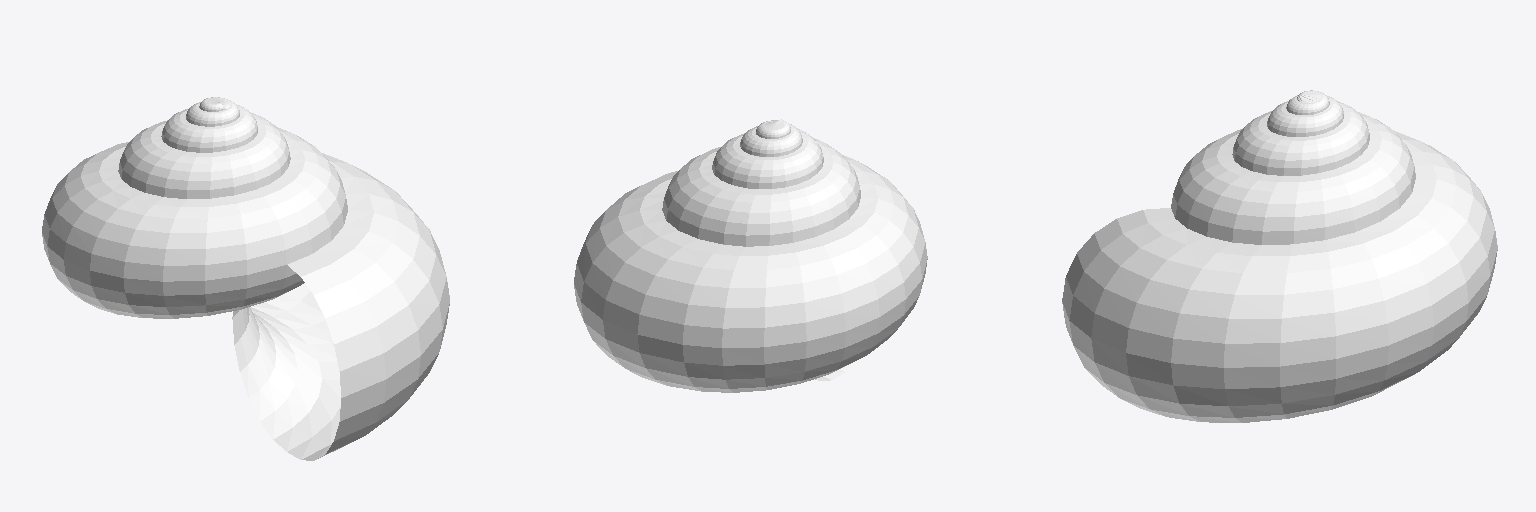
The model's file is shell_snail.obj.
The picture shows the model from 3 angles: view 1: azimuth 30°, elevation 25°; view 2: azimuth 150°, elevation 25°; view 3: azimuth 270°, elevation 25°; orthographic projection.
Parts seen in each view (by area): view 1: Mesh1 integer_shell2_1 Model; view 2: Mesh1 integer_shell2_1 Model; view 3: Mesh1 integer_shell2_1 Model.
Part boxes in pixels (left/top/right/bottom): Mesh1 integer_shell2_1 Model: left=42, top=97, right=449, bottom=460; Mesh1 integer_shell2_1 Model: left=574, top=119, right=927, bottom=392; Mesh1 integer_shell2_1 Model: left=1062, top=90, right=1497, bottom=422.
Bounding box in the file's own units: 116 × 101 × 132.